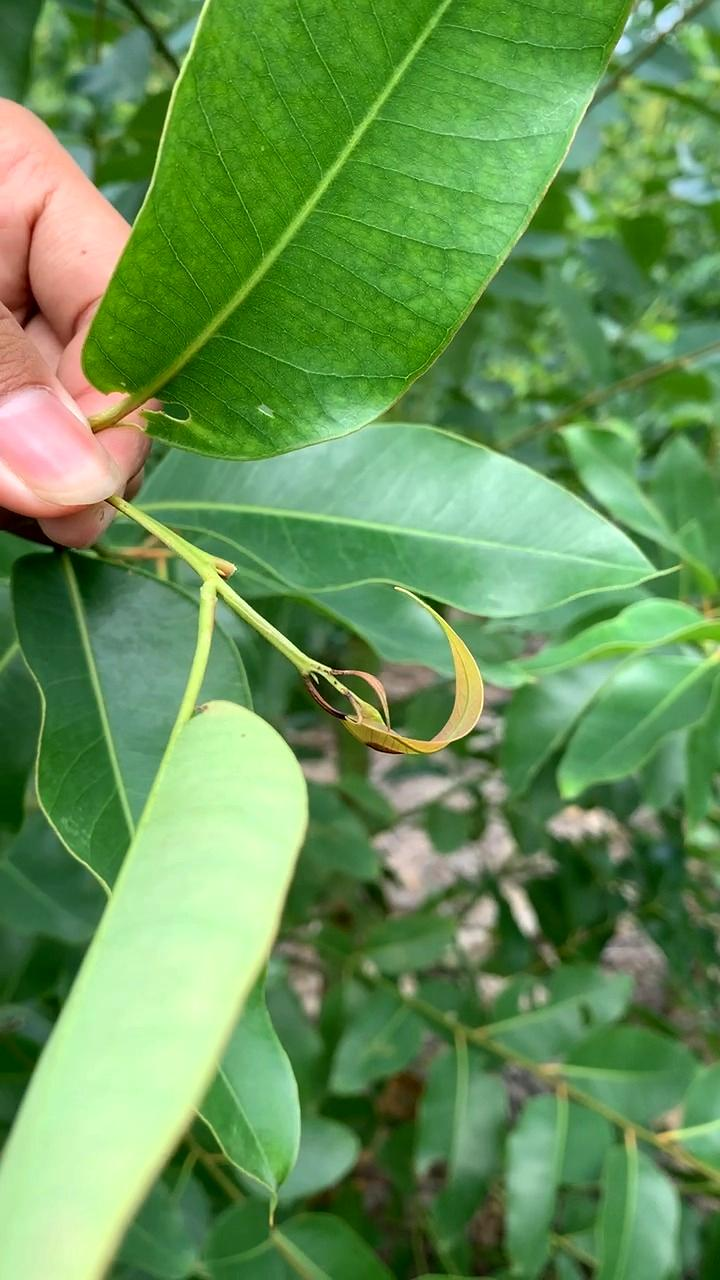Helopeltis-Withered Sprout: (318, 631, 489, 763)
